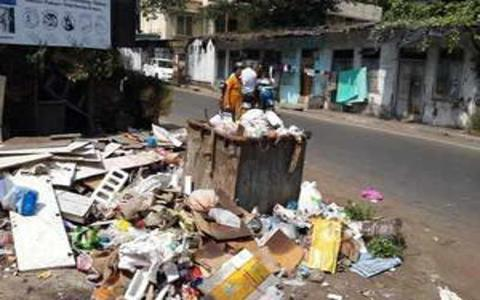overflowing garbage: (181, 111, 327, 280)
